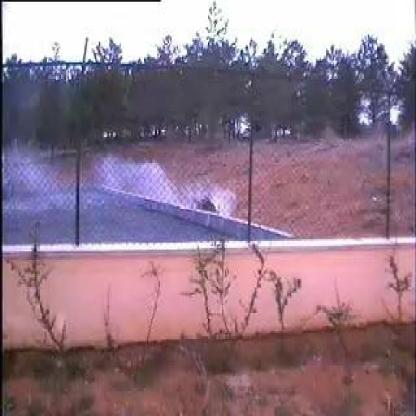-: (39, 138, 237, 244)
